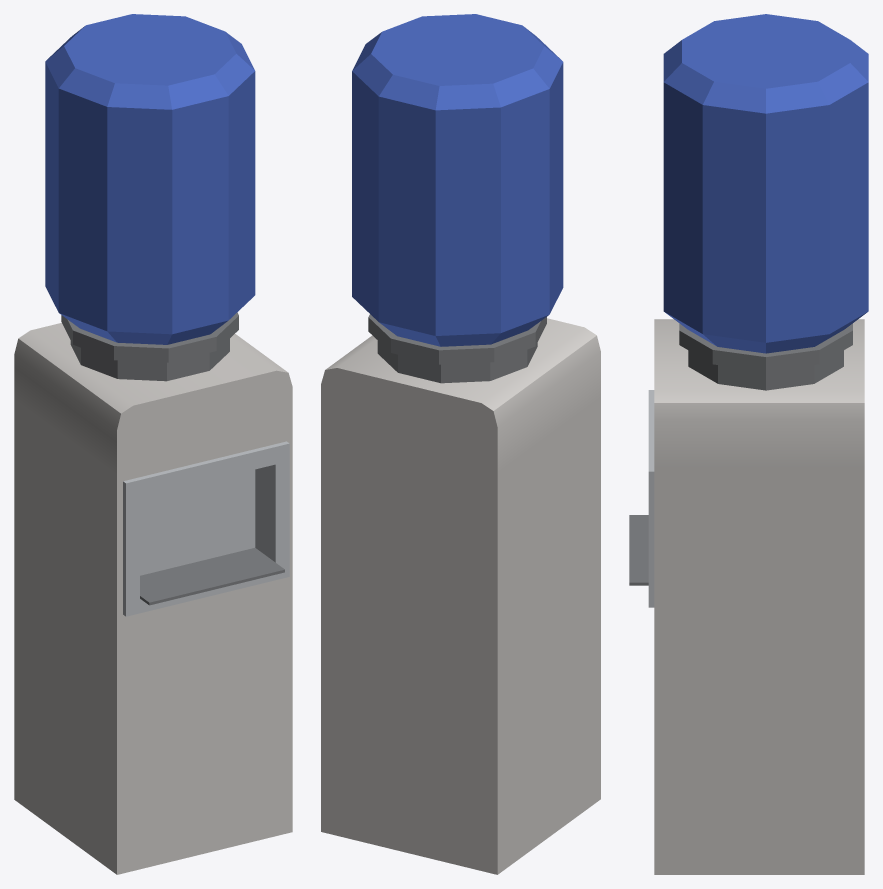
Rendered from SM_water_dispenser.fbx.
3 views of the same model, side by side, from view 1: azimuth 30°, elevation 25°; view 2: azimuth 150°, elevation 25°; view 3: azimuth 270°, elevation 25° (orthographic). The views are drawn at different scales.
Visible parts, largest first — view 1: Box025; view 2: Box025; view 3: Box025.
Boxes of the visible parts, x1,y1,x2,y2 form: Box025: (14, 14, 292, 874); Box025: (321, 14, 600, 874); Box025: (629, 14, 868, 874).
Bounding box in the file's own units: 15.4 × 61.44 × 17.1.
